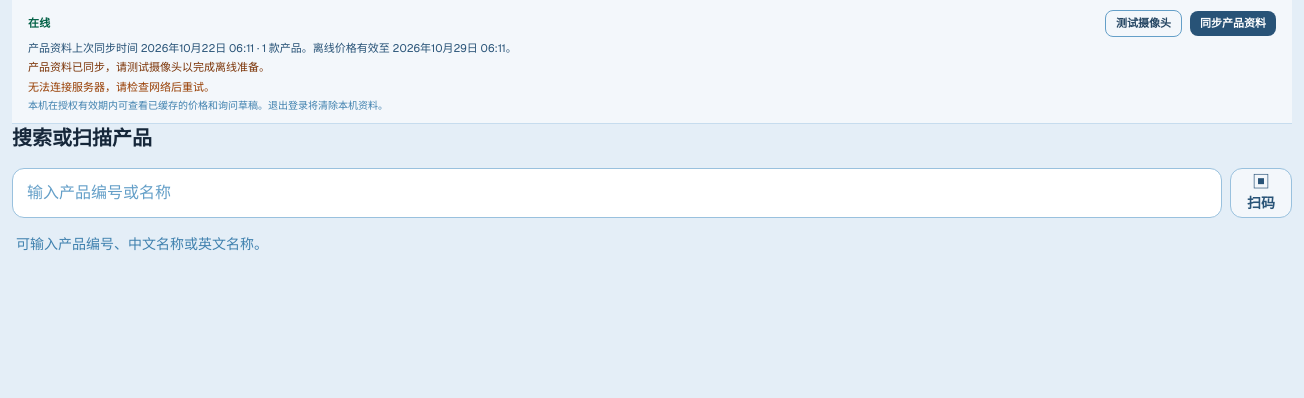
Test: online cold-start catalogue › keeps a valid local catalogue if the background refresh fails
The width and height of the screenshot is (1304, 398).
Expected: the text "产品资料上次同步时间" is shown, [28,40,138,54]
Expected: the text "无法连接服务器，请检查网络后重试。" is shown, [28,80,215,94]
Step 1. Type "K10188-13" into the search field named "搜索产品" → (617, 193), box [12,168,1222,218]
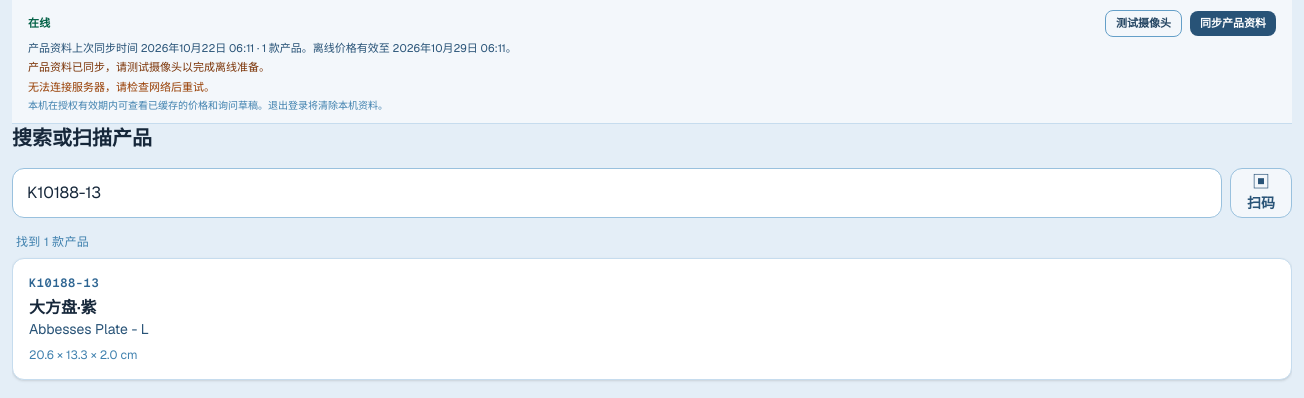
Expected: the text "K10188-13" is shown, [29,275,99,291]
Expected: the text "Abbesses Plate - L" is shown, [29,320,149,338]
